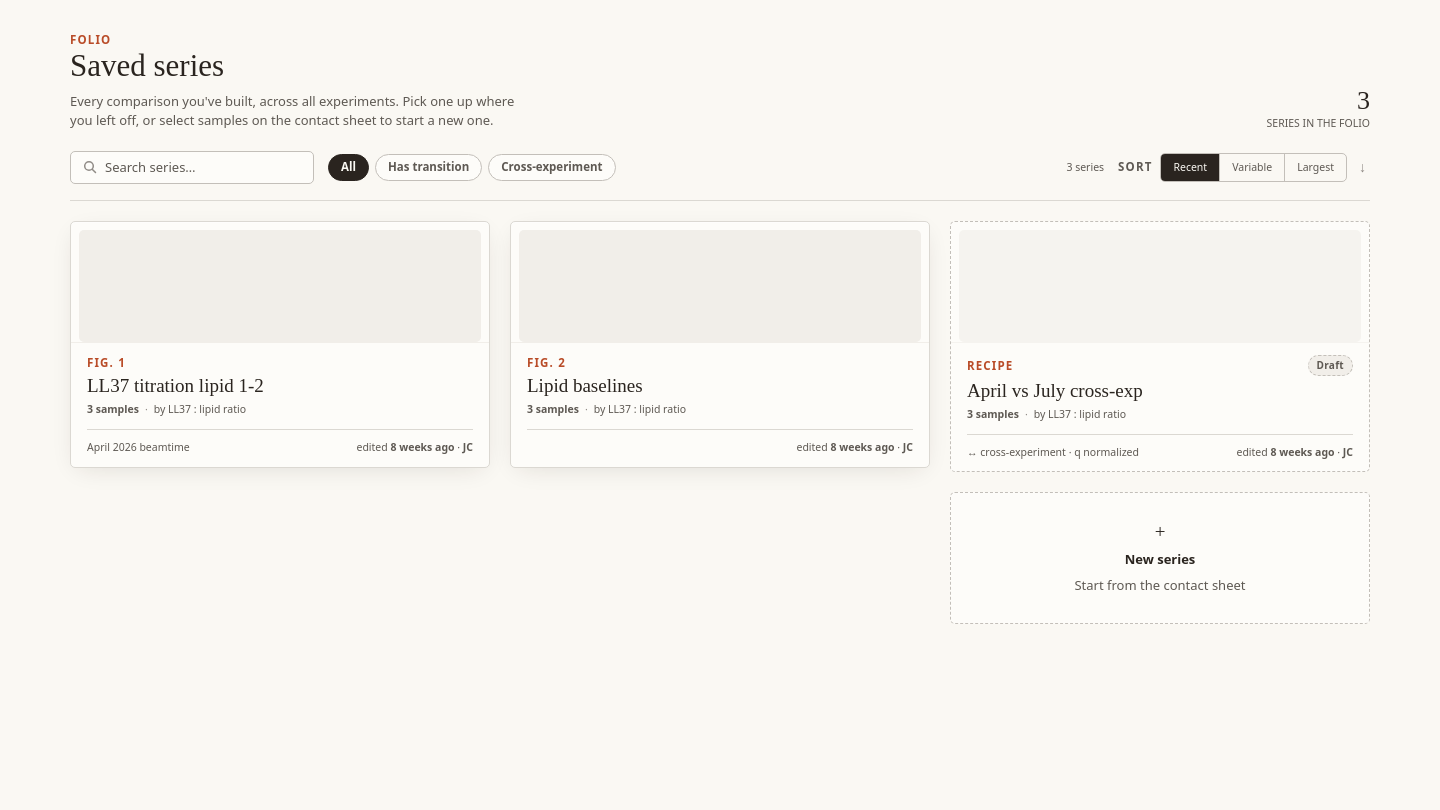
Scenario: SeriesFolioPage › search input narrows the visible cards
Type "titration" into the field at (203, 167), box 105,158 -> 301,177
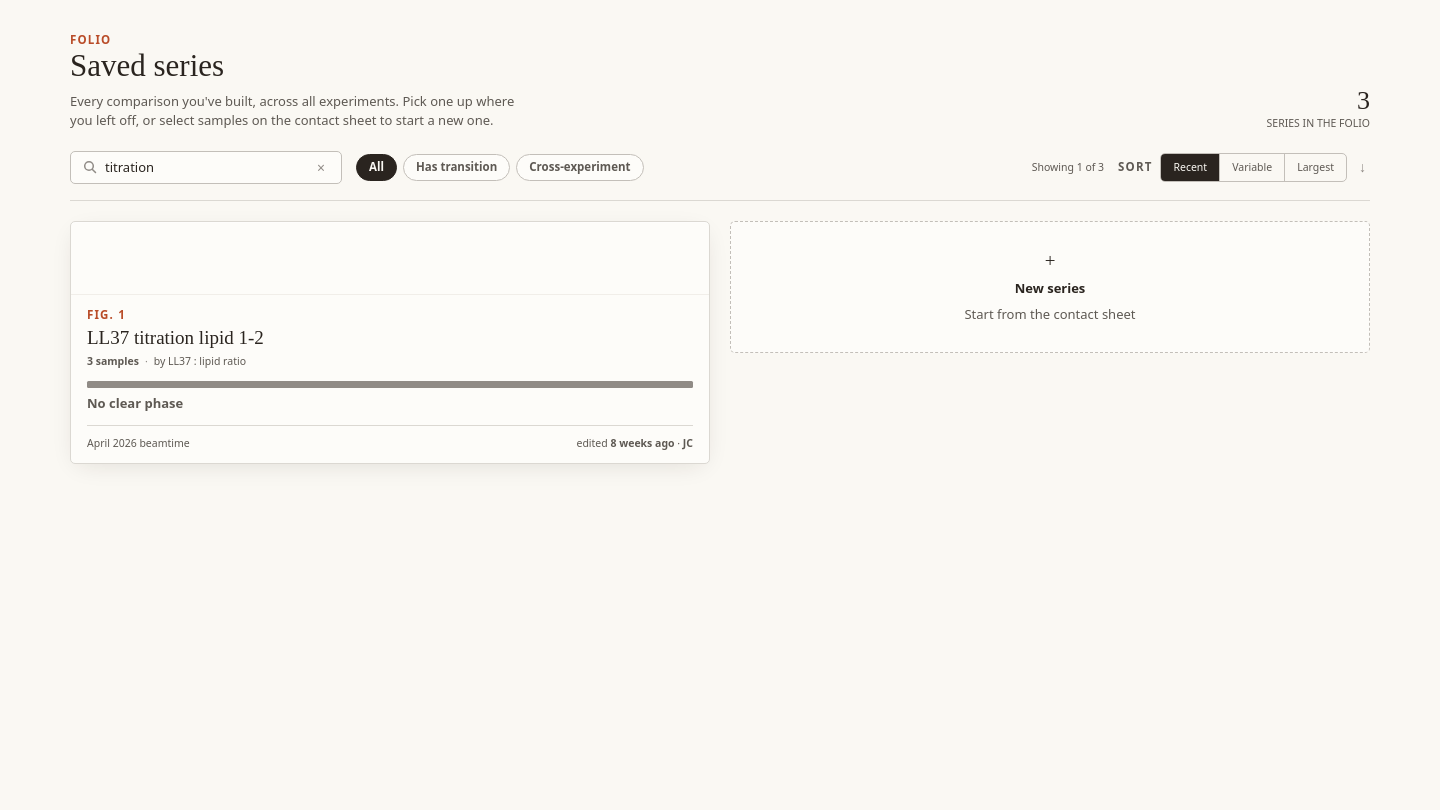
Now the number of elements with test id "series-card" is 1, box 70,221 -> 710,464
